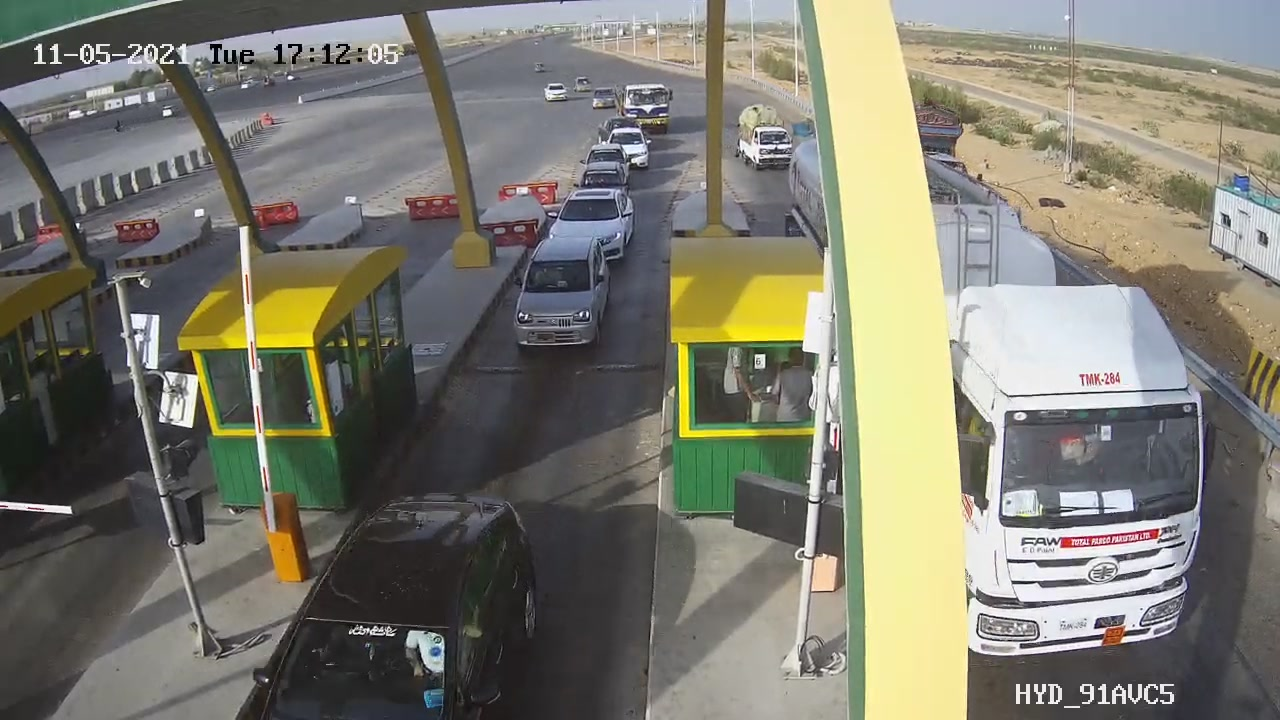F1: (491, 225, 625, 361)
